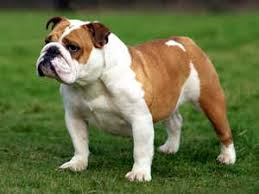Bulldog: (23, 9, 254, 185)
